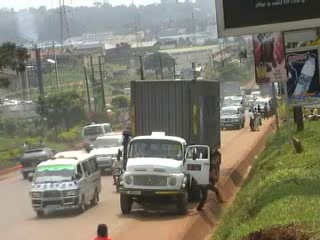Car: (85, 128, 128, 178), (18, 142, 55, 181), (48, 146, 91, 161)
Motorcycle: (111, 156, 126, 195)
